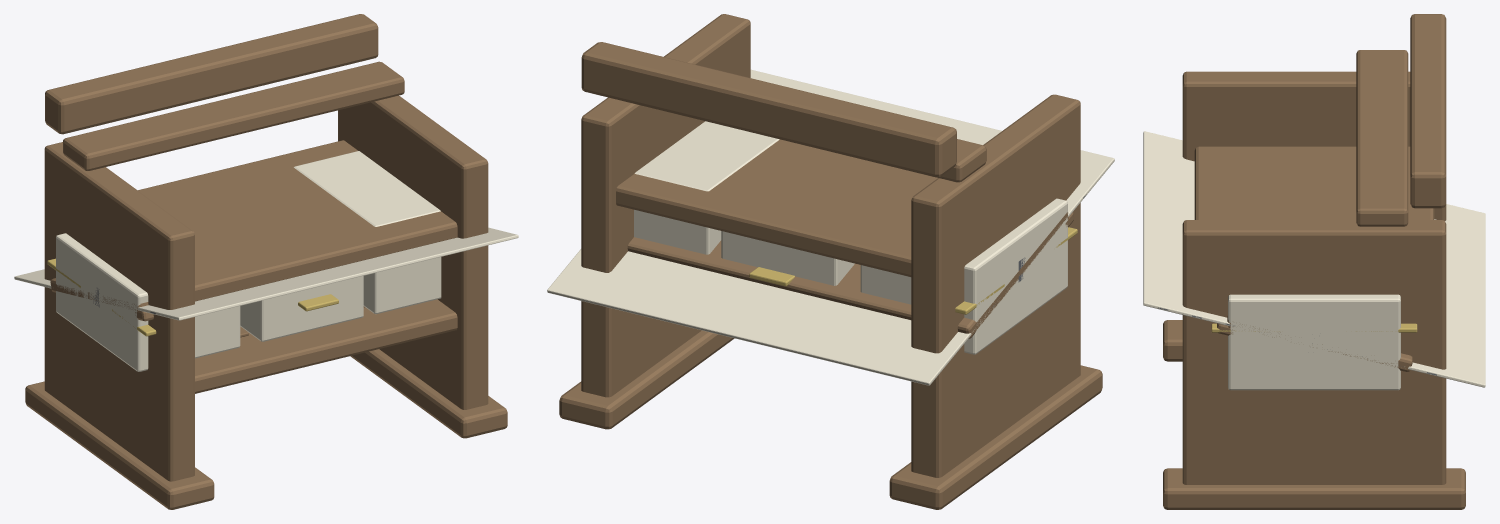
The model's file is sloped_writing_desk.glb.
3 renders of one model, left to right at view 1: azimuth 30°, elevation 25°; view 2: azimuth 150°, elevation 25°; view 3: azimuth 270°, elevation 25°, orthographic. The views are drawn at different scales.
Visible parts, largest first — view 1: world; view 2: world; view 3: world.
Part boxes in pixels (x1,y1,x2,y2): world: (14,14,518,509); world: (547,14,1114,509); world: (1143,14,1485,509).
Bounding box in the file's own units: 2 × 1.8 × 1.68.
Materials: 1 (1 with a texture image).
